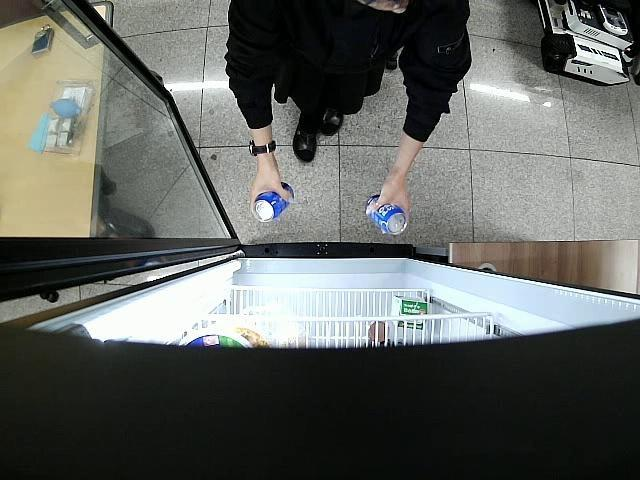13_pocariSweat: (364, 192, 408, 236), (254, 181, 294, 223)
